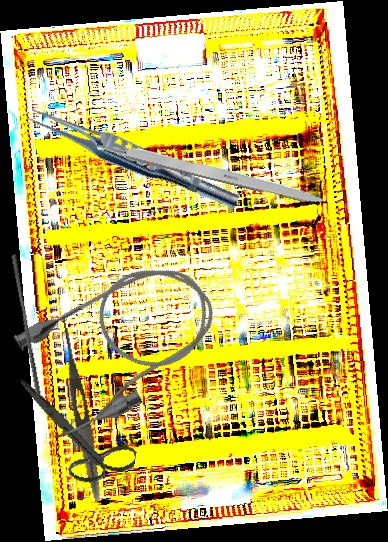Cannula: (1, 242, 237, 450)
Dressing Forceps: (54, 313, 106, 503)
Iris Scissors: (4, 377, 147, 492)
Pusher: (6, 253, 47, 397)
Scalpel Handle: (96, 135, 330, 209)
Tissue Forceps: (23, 101, 244, 215)
